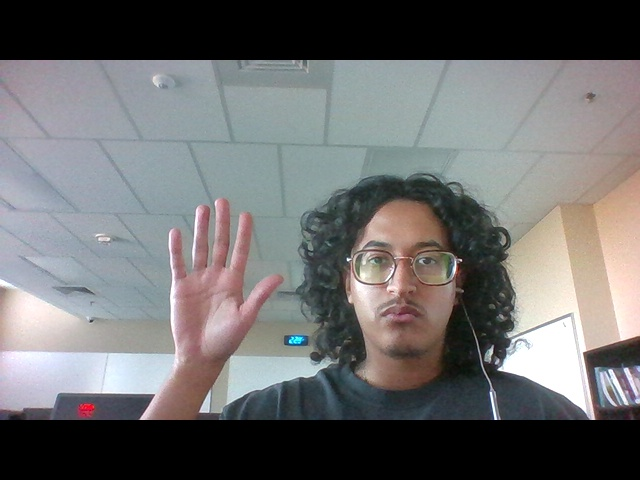hello: (159, 193, 287, 370)
